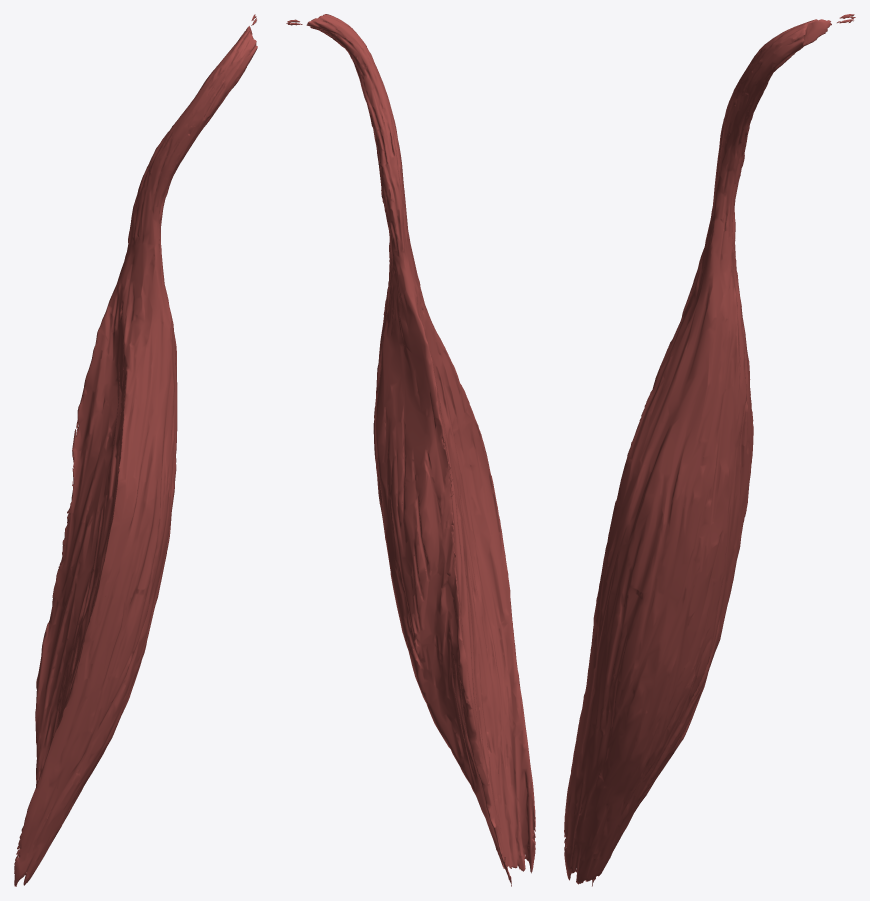
File: FMA37684.glb
3 views of the same model, side by side, from view 1: azimuth 30°, elevation 25°; view 2: azimuth 150°, elevation 25°; view 3: azimuth 330°, elevation 25° (orthographic). The views are drawn at different scales.
Parts seen in each view (by area): view 1: FMA37684; view 2: FMA37684; view 3: FMA37684.
Part boxes in pixels (bbox=[...]): FMA37684: bbox=[14, 14, 257, 886]; FMA37684: bbox=[286, 14, 535, 886]; FMA37684: bbox=[564, 14, 855, 886].
Size of the model in its own units: 0.0835 by 0.2645 by 0.0334.
